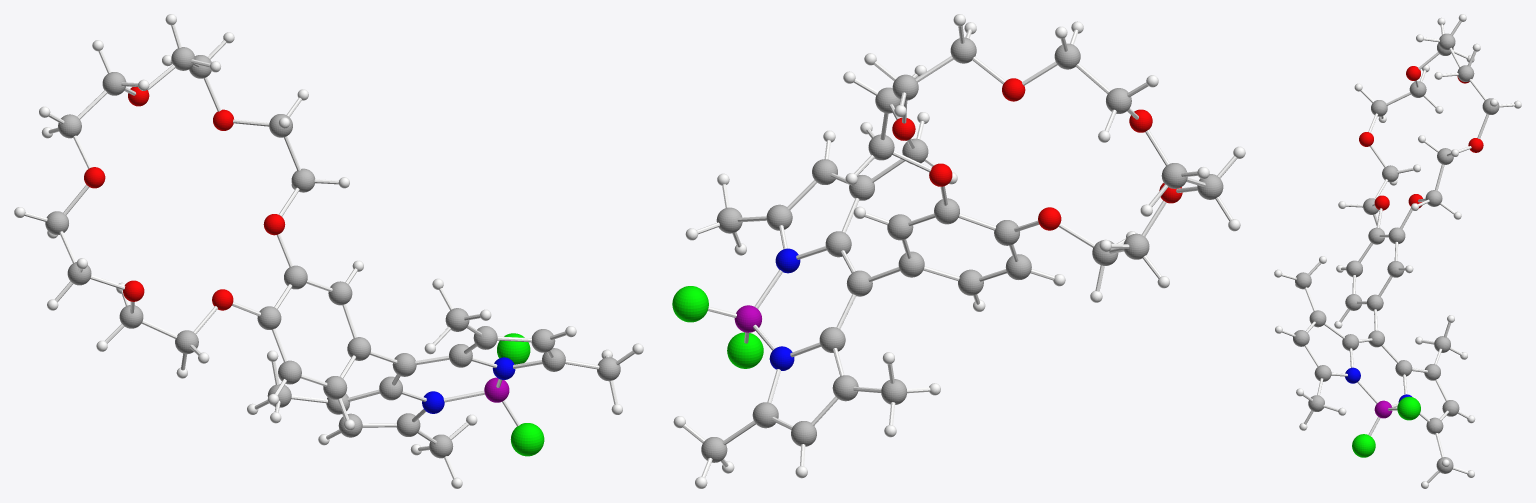
Rendered from BODIPY.glb.
3 renders of one model, left to right at view 1: azimuth 30°, elevation 25°; view 2: azimuth 150°, elevation 25°; view 3: azimuth 270°, elevation 25°, orthographic. The views are drawn at different scales.
Parts seen in each view (by area): view 1: Atom.7, Atom.5; view 2: Atom.5, Atom.7; view 3: Atom.5, Atom.7.
Boxes of the visible parts, x1,y1,x2,y2 form: Atom.7: [510, 423, 544, 456]; Atom.5: [497, 333, 530, 364]; Atom.5: [672, 286, 708, 322]; Atom.7: [727, 332, 763, 368]; Atom.5: [1397, 396, 1420, 420]; Atom.7: [1352, 434, 1375, 457].
Bounding box in the file's own units: 14.82 × 13.39 × 8.35.
